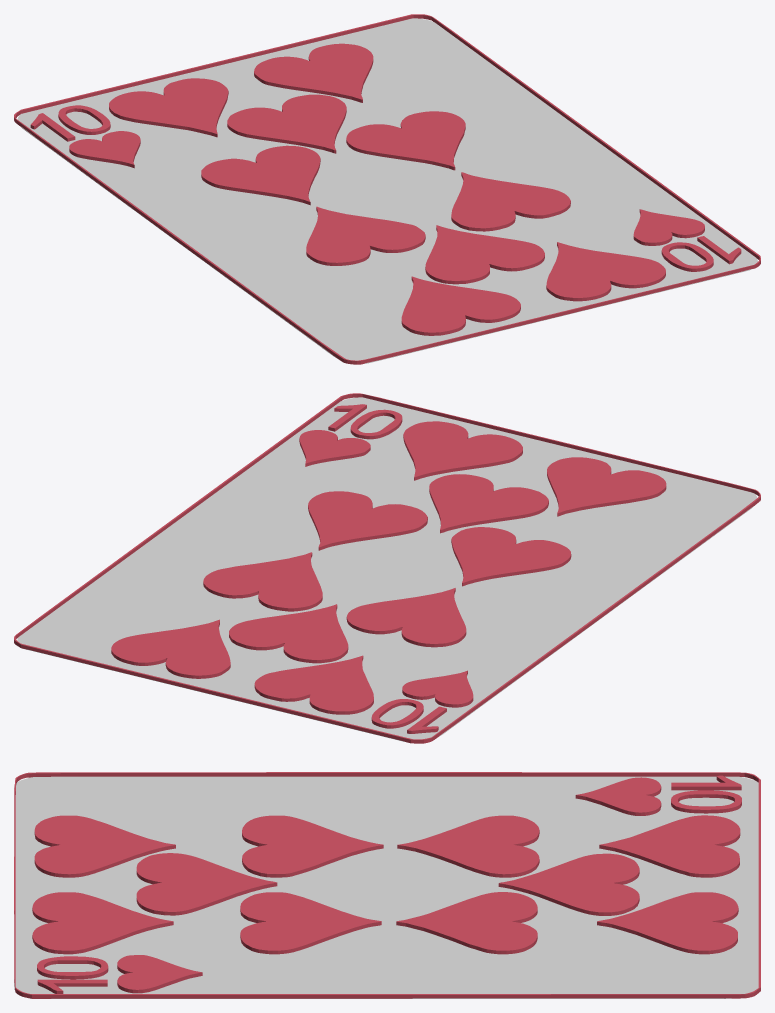
File: 10_hearts.glb
The picture shows the model from 3 angles, top to bottom: view 1: azimuth 30°, elevation 25°; view 2: azimuth 150°, elevation 25°; view 3: azimuth 270°, elevation 25°; orthographic projection. The views are drawn at different scales.
Parts seen in each view (by area): view 1: Mesh_Mesh_head_geo.001_lambert2SG.001; view 2: Mesh_Mesh_head_geo.001_lambert2SG.001; view 3: Mesh_Mesh_head_geo.001_lambert2SG.001.
Part boxes in pixels (x1,y1,x2,y2): Mesh_Mesh_head_geo.001_lambert2SG.001: [14, 14, 760, 364]; Mesh_Mesh_head_geo.001_lambert2SG.001: [14, 393, 760, 743]; Mesh_Mesh_head_geo.001_lambert2SG.001: [14, 772, 760, 998].
Bounding box in the file's own units: 1.2 × 0.01 × 1.7.
